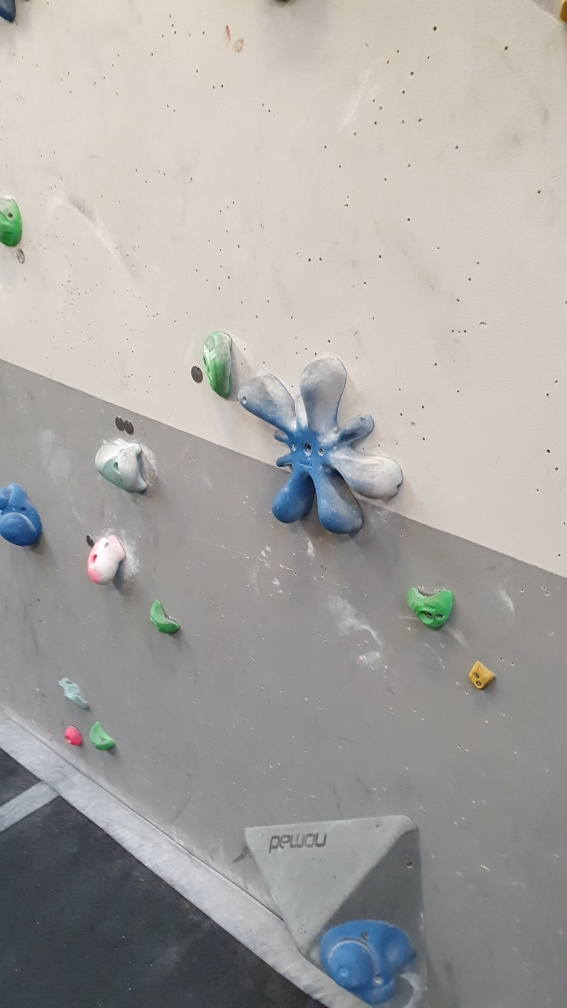Hand Start: (186, 361, 207, 387), (124, 418, 137, 436)
Jug: (406, 582, 462, 636), (101, 435, 152, 494), (200, 320, 235, 395), (88, 537, 130, 590), (146, 603, 179, 639), (86, 718, 114, 752)
Octopus Pinch: (236, 350, 400, 539)
Sloper: (314, 916, 425, 1006), (1, 479, 48, 546)
